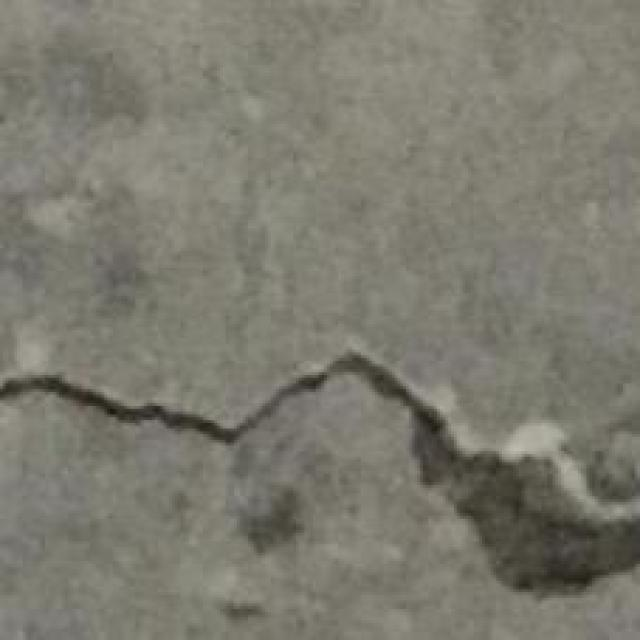Crack: (3, 344, 640, 606)
